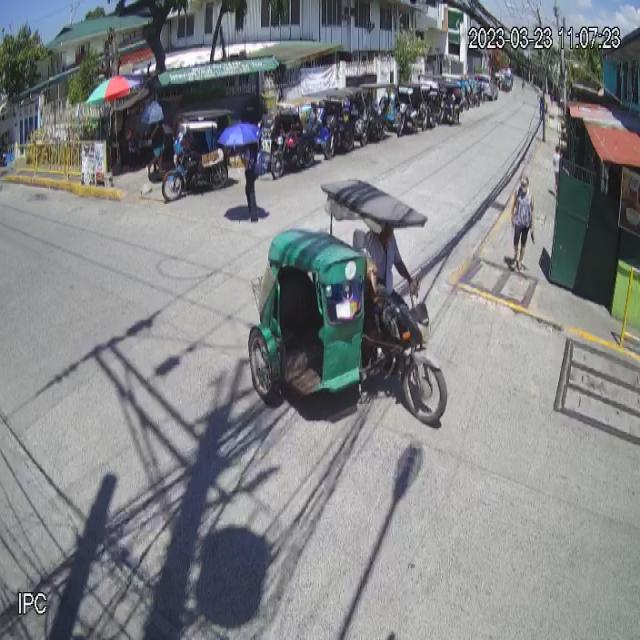Tricycle: (246, 176, 448, 425)
